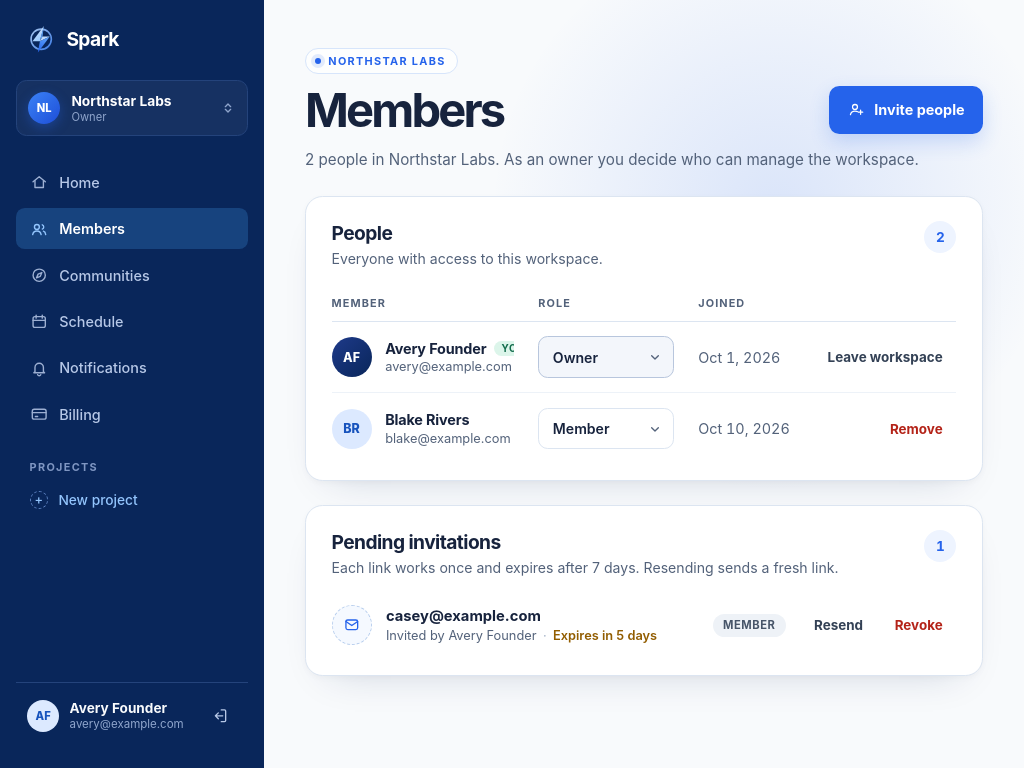
Test: invite dialog › sends the invitation and confirms without ever showing a link or token
The width and height of the screenshot is (1024, 768).
Click the button "Invite people". click: (906, 110)
box: [830, 86, 983, 134]
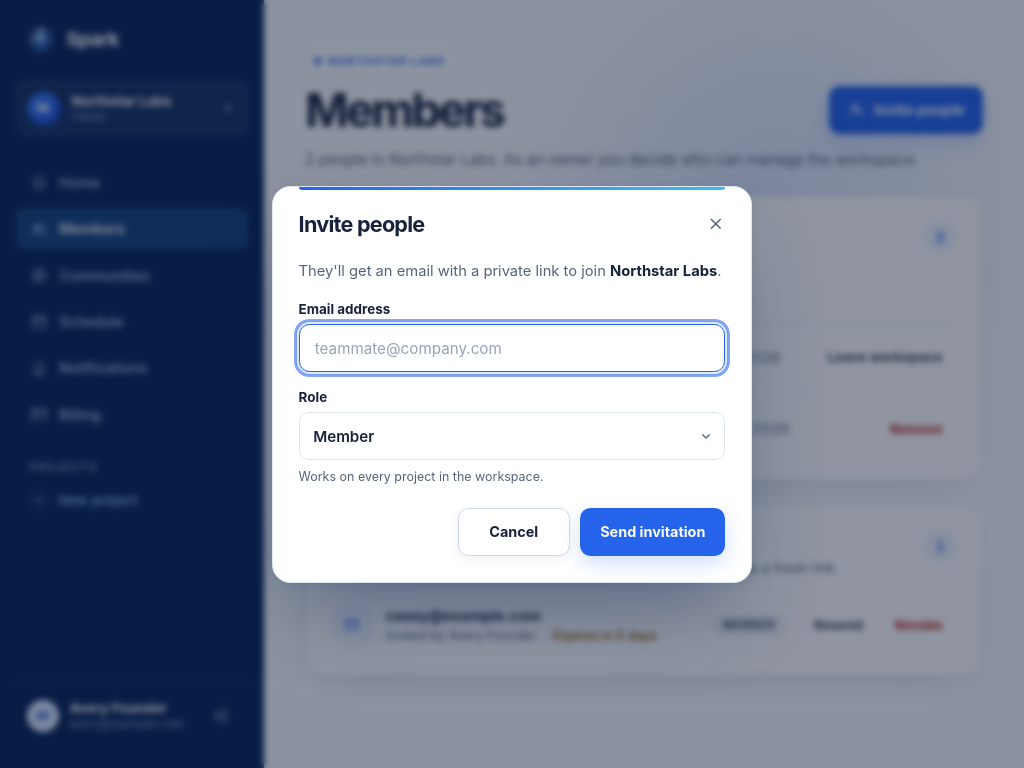
Type "dana@example.com" into the field labelled "Email address". click: (512, 348)
box: [299, 324, 725, 372]
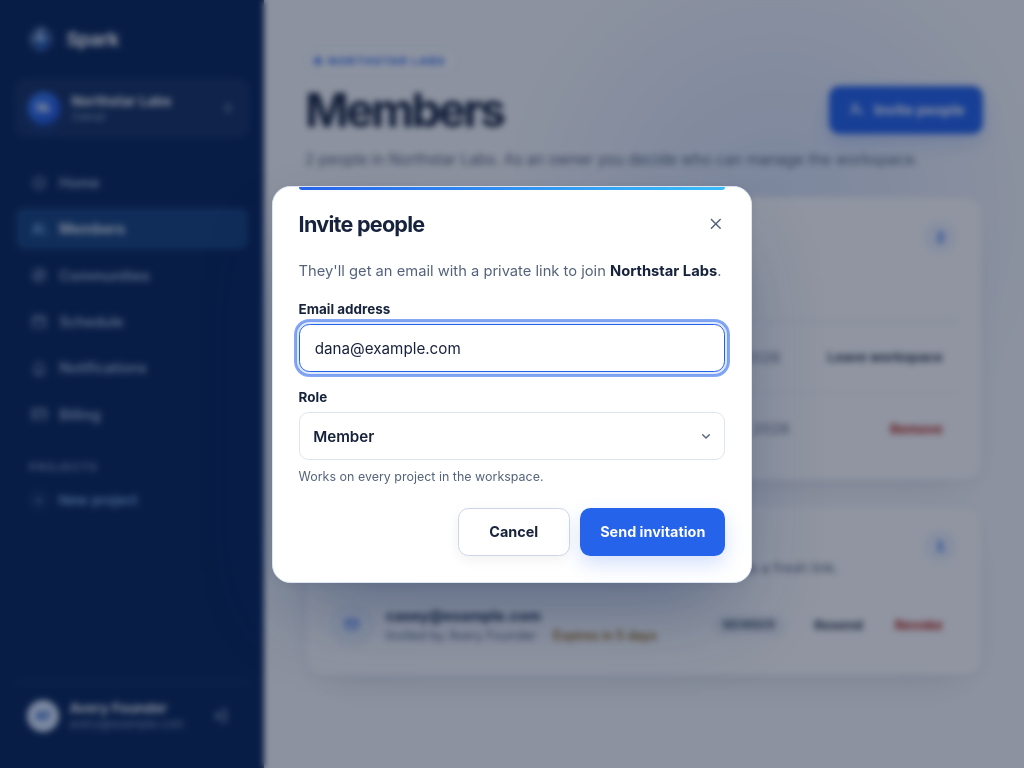
Select "Admin" in the dropdown labelled "Role". click: (512, 436)
box: [299, 412, 725, 460]
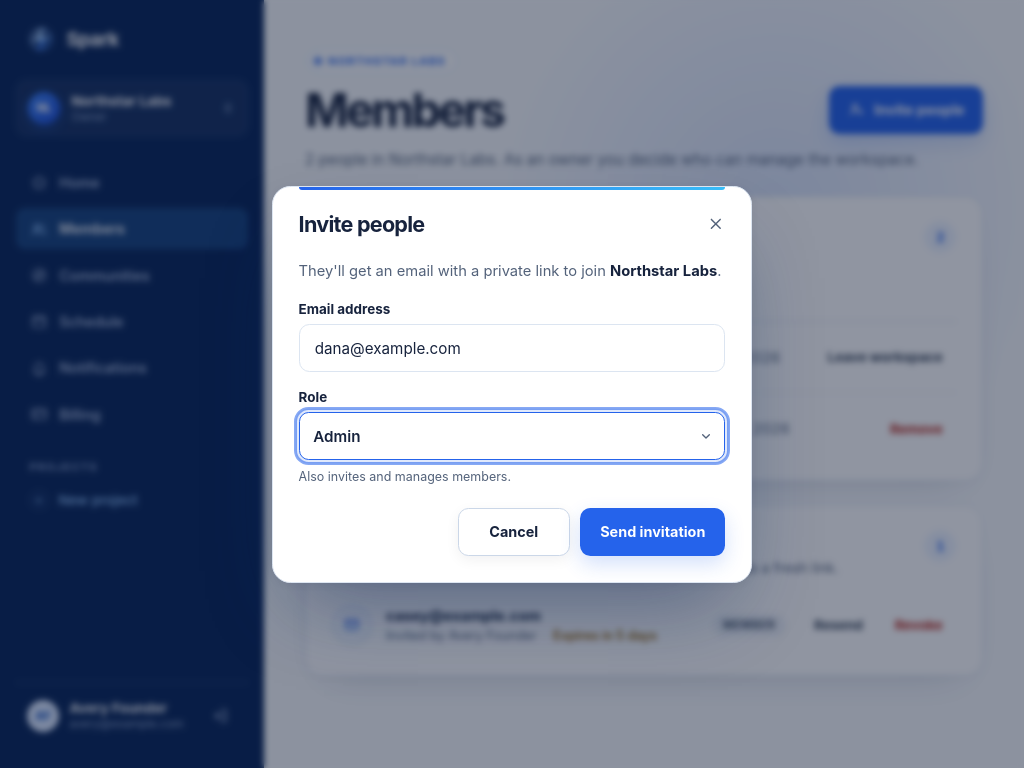
Click the button "Send invitation". click: (653, 532)
box: [580, 508, 725, 556]
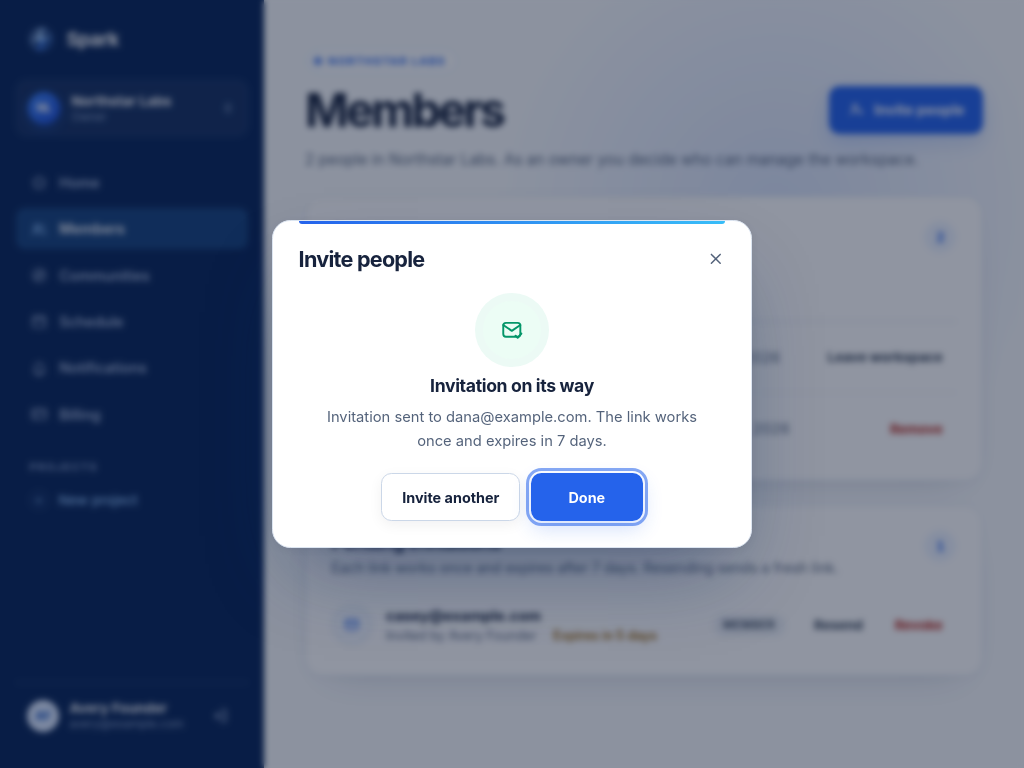
Expected: the text "Invitation sent to dana@example.com. The link works once and expires in 7 days." is shown, [320, 406, 704, 453]
